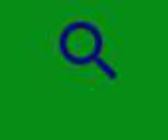ImgButton: (1, 1, 167, 139)
